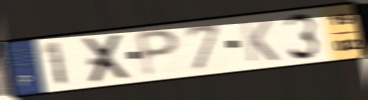1: (42, 39, 69, 88)
3: (282, 12, 326, 62)
7: (185, 21, 223, 72)
K: (238, 18, 282, 64)
P: (134, 28, 183, 80)
X: (81, 32, 134, 85)
